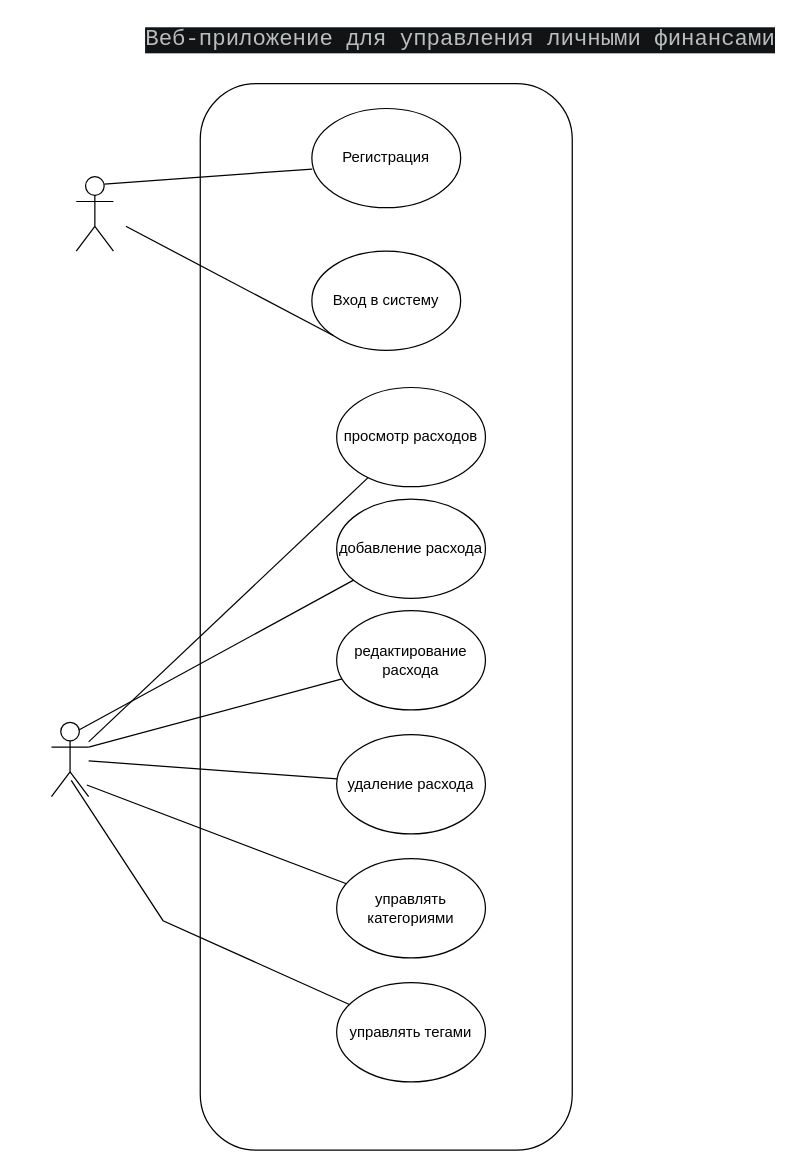
Some shapes in this 797 by 1172 pixel diagram are drawn without their labels. The shapes that lost their labels are listed below. From the top down, each one's centre as x and y in pixels, then its label:
At [94,213]: "Гость".
At [69,759]: "Пользователь".
